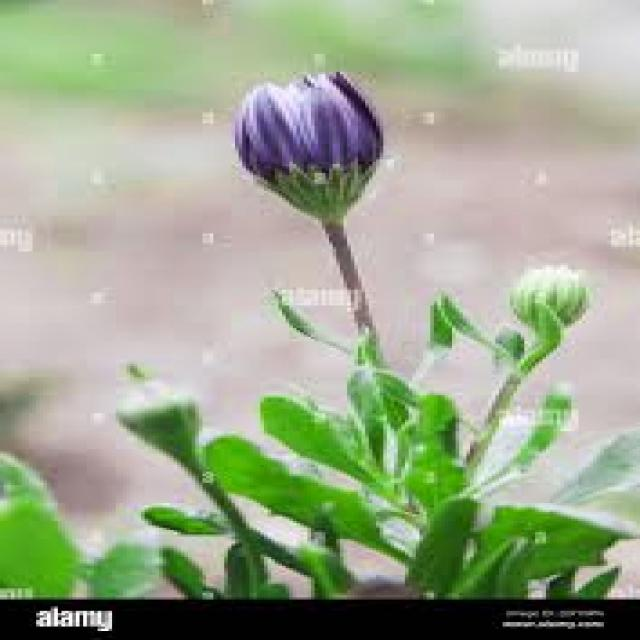Bloomed: (228, 68, 387, 222)
